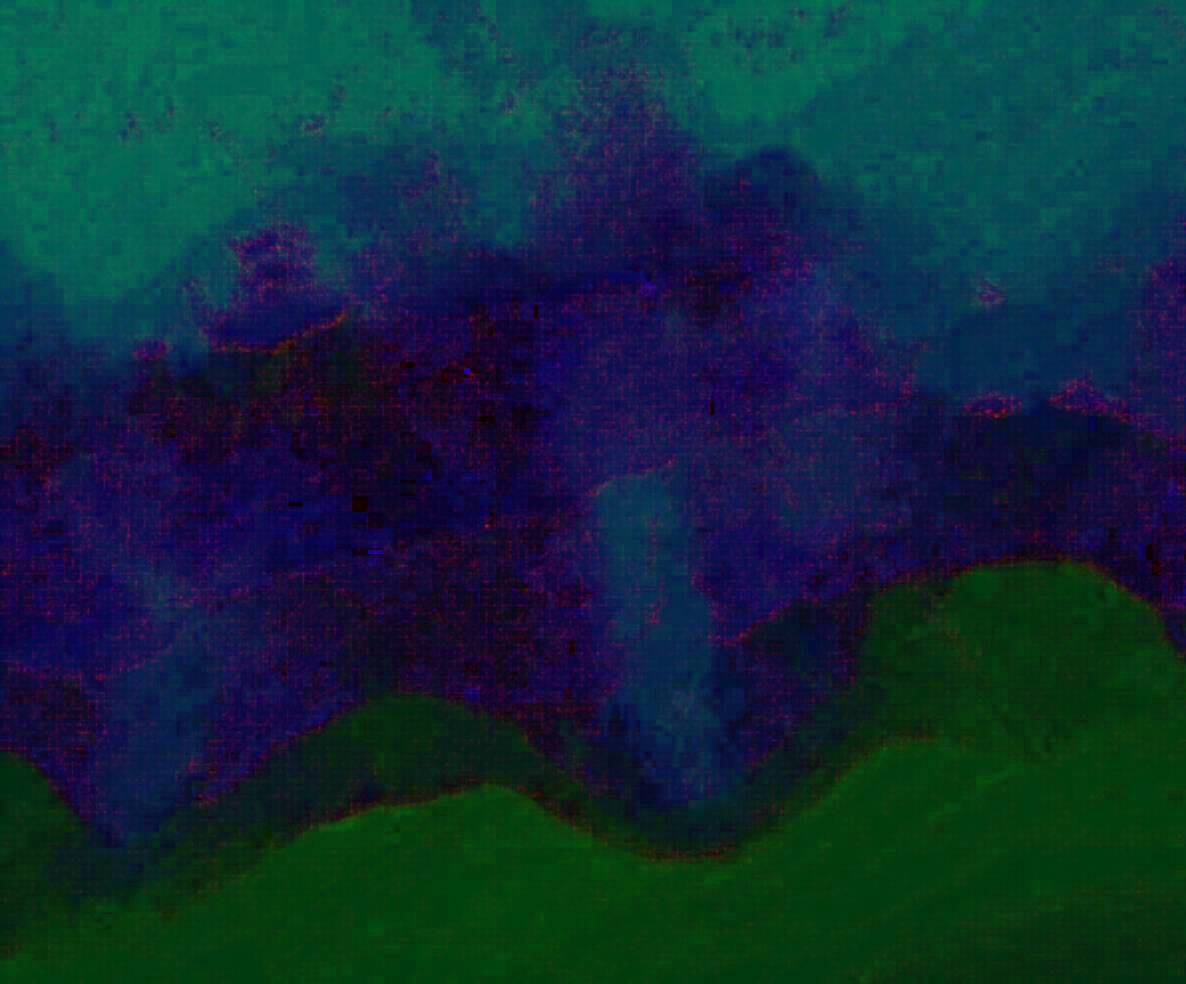rip_current: (531, 380, 824, 849)
